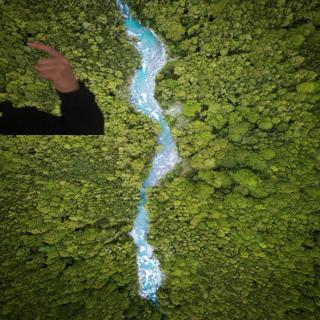WHY: (24, 37, 80, 93)
